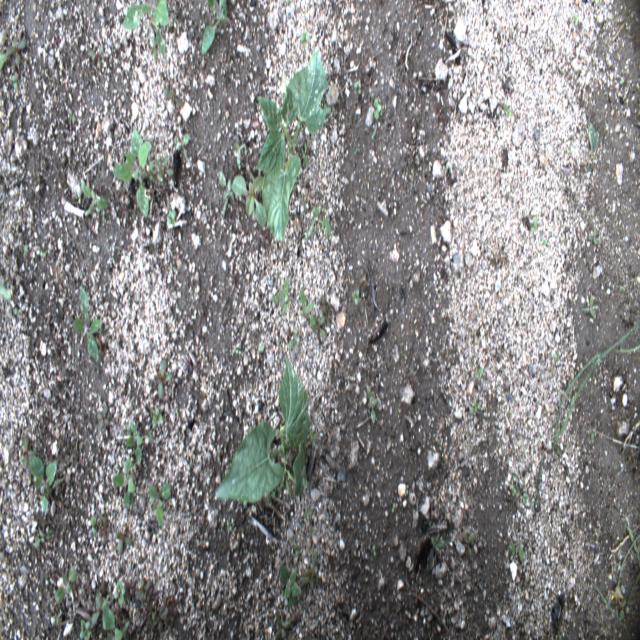crop: (255, 45, 332, 244), (212, 356, 308, 508)
weed: (112, 123, 176, 212), (119, 0, 170, 57), (69, 284, 104, 364), (28, 446, 66, 507), (227, 171, 267, 227), (197, 3, 231, 57), (76, 172, 118, 214), (2, 17, 33, 72), (88, 592, 121, 640), (106, 461, 138, 503), (52, 564, 80, 608), (146, 483, 173, 528), (121, 422, 145, 466), (276, 564, 306, 599), (155, 354, 175, 404), (268, 273, 292, 314), (362, 382, 380, 430), (305, 306, 327, 345), (308, 203, 332, 238), (87, 516, 110, 547), (148, 601, 167, 632), (177, 124, 193, 160), (32, 524, 54, 550), (112, 531, 132, 559), (136, 575, 156, 600), (150, 405, 166, 430), (370, 94, 383, 122)
